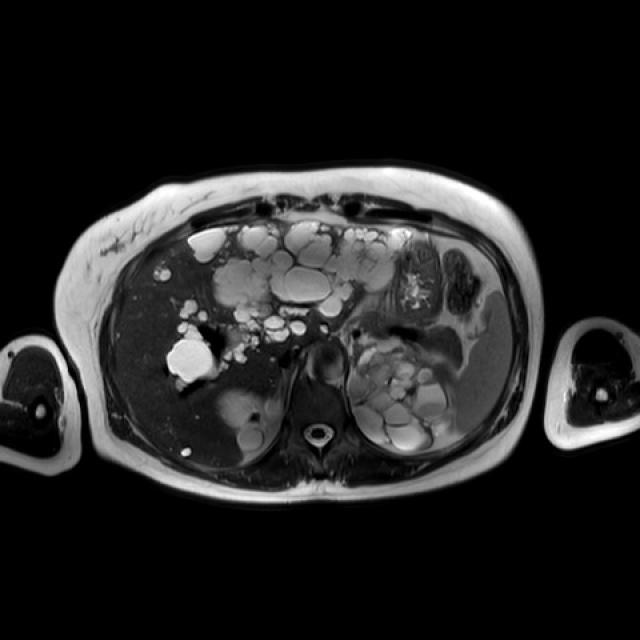sag: (217, 387, 286, 453)
sol: (350, 343, 453, 451)
